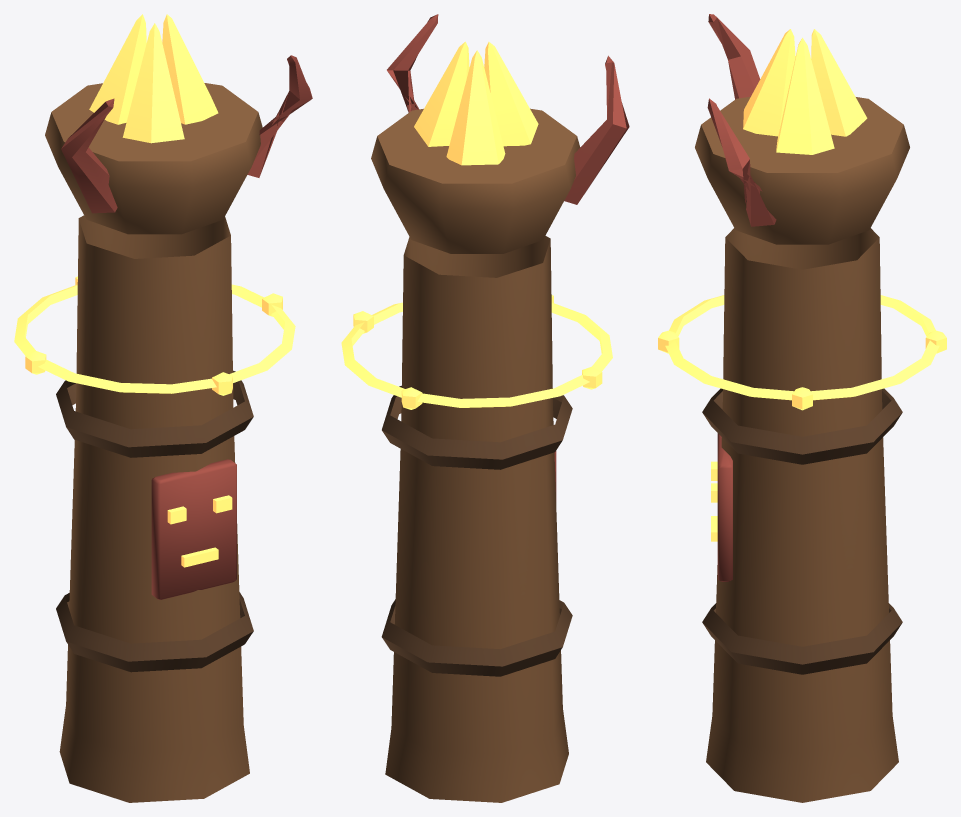
File: totem-fire.glb
3 renders of one model, left to right at view 1: azimuth 30°, elevation 25°; view 2: azimuth 150°, elevation 25°; view 3: azimuth 270°, elevation 25°, orthographic. The views are drawn at different scales.
Visible parts, largest first — view 1: body, head, glow_eyes, ring; view 2: body, head, glow_eyes, ring; view 3: body, head, glow_eyes, ring.
Boxes of the visible parts, x1,y1,x2,y2 form: body: [56, 215, 253, 802]; head: [45, 55, 312, 234]; glow_eyes: [89, 14, 232, 567]; ring: [14, 276, 295, 395]; body: [381, 236, 572, 802]; head: [371, 14, 629, 253]; glow_eyes: [414, 41, 538, 165]; ring: [341, 295, 612, 409]; body: [702, 228, 902, 802]; head: [695, 14, 909, 244]; glow_eyes: [711, 29, 867, 541]; ring: [658, 295, 946, 410].
Size of the model in its own units: 0.2237 by 0.6262 by 0.2245.
